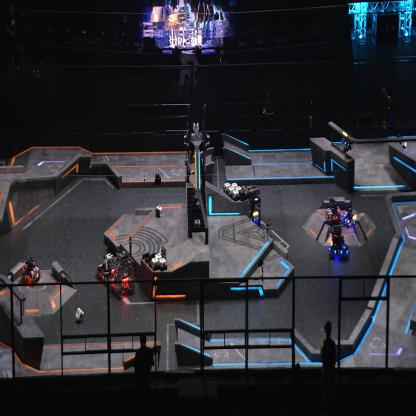car: (107, 248, 135, 296), (96, 245, 120, 285), (239, 184, 261, 226), (327, 221, 350, 260), (21, 254, 40, 285), (340, 202, 357, 230), (325, 195, 341, 220)
